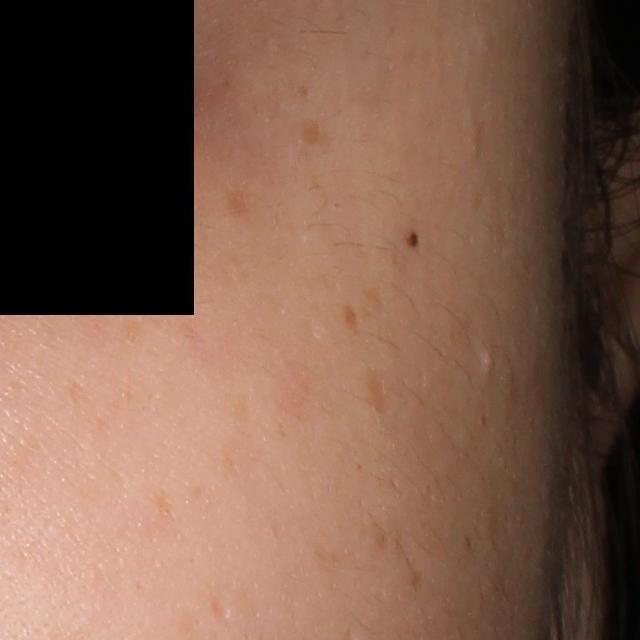atrophic_scar: (210, 601, 232, 620)
comedo: (478, 347, 497, 372)
melasma: (367, 368, 388, 416), (151, 486, 177, 522), (223, 188, 250, 219), (299, 117, 327, 145), (342, 302, 361, 332), (124, 318, 142, 344)
nevus: (404, 227, 422, 249)
